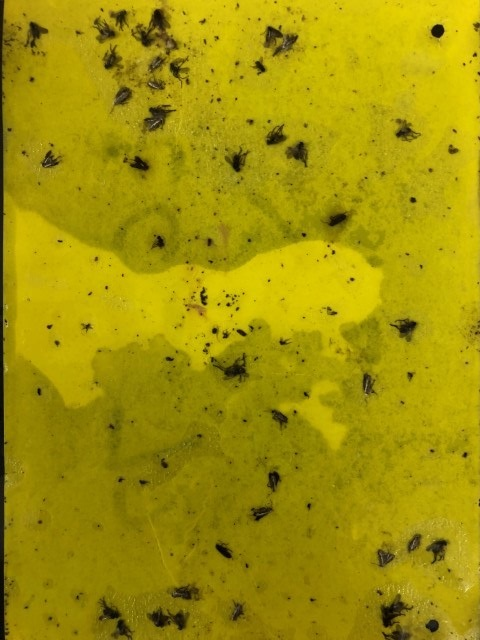DBM: (106, 84, 136, 115), (369, 544, 397, 572), (38, 148, 67, 172), (168, 584, 202, 603), (257, 22, 285, 45), (249, 502, 276, 524), (227, 597, 248, 624), (142, 113, 167, 135), (406, 531, 425, 558), (359, 371, 377, 398), (145, 53, 164, 76), (266, 469, 282, 496), (144, 79, 168, 93)
